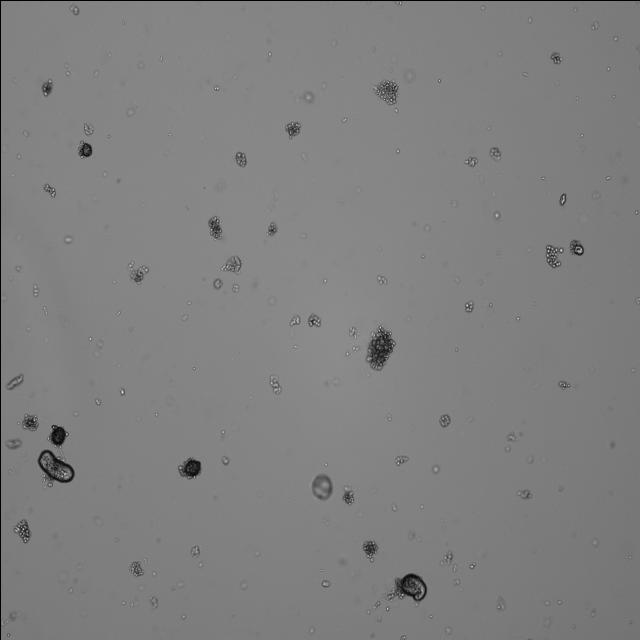alive: (36, 447, 76, 484), (398, 571, 428, 604), (175, 454, 202, 483), (50, 424, 66, 446)
dead: (362, 324, 396, 372), (372, 77, 398, 107), (542, 238, 564, 270), (10, 518, 32, 544), (204, 214, 224, 240), (128, 558, 146, 577)
